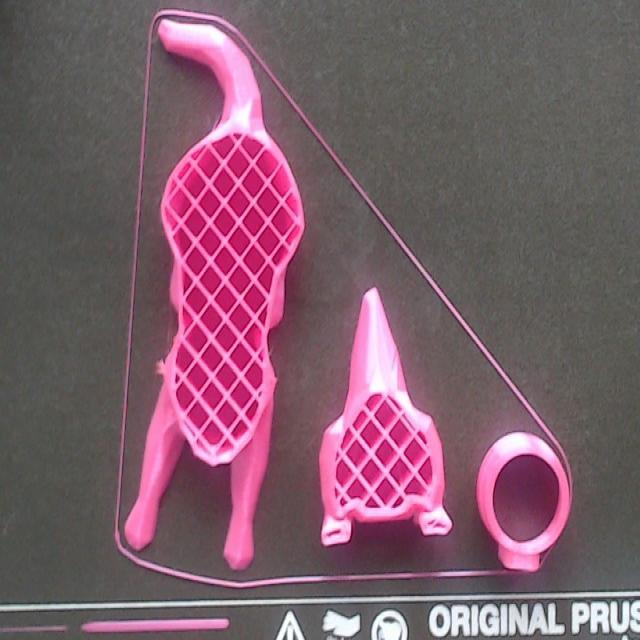mistake: (155, 356, 166, 376)
